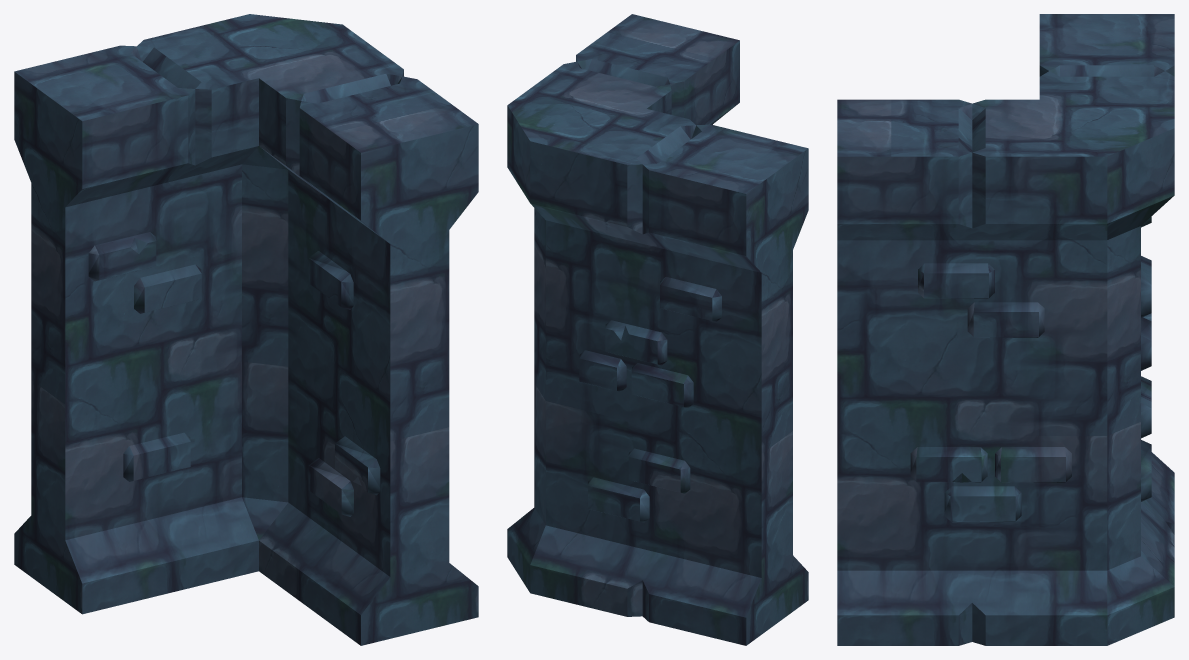
Rendered from wall_corner.gltf.
3 views of the same model, side by side, from view 1: azimuth 30°, elevation 25°; view 2: azimuth 150°, elevation 25°; view 3: azimuth 270°, elevation 25° (orthographic). The views are drawn at different scales.
Visible parts, largest first — view 1: wall_corner; view 2: wall_corner; view 3: wall_corner.
Part boxes in pixels (x1=…): wall_corner: x1=14, y1=14, x2=478, y2=645; wall_corner: x1=507, y1=14, x2=808, y2=645; wall_corner: x1=837, y1=14, x2=1174, y2=645.
Size of the model in its own units: 2.5 by 4 by 2.5.
Materials: 1 (1 with a texture image).
